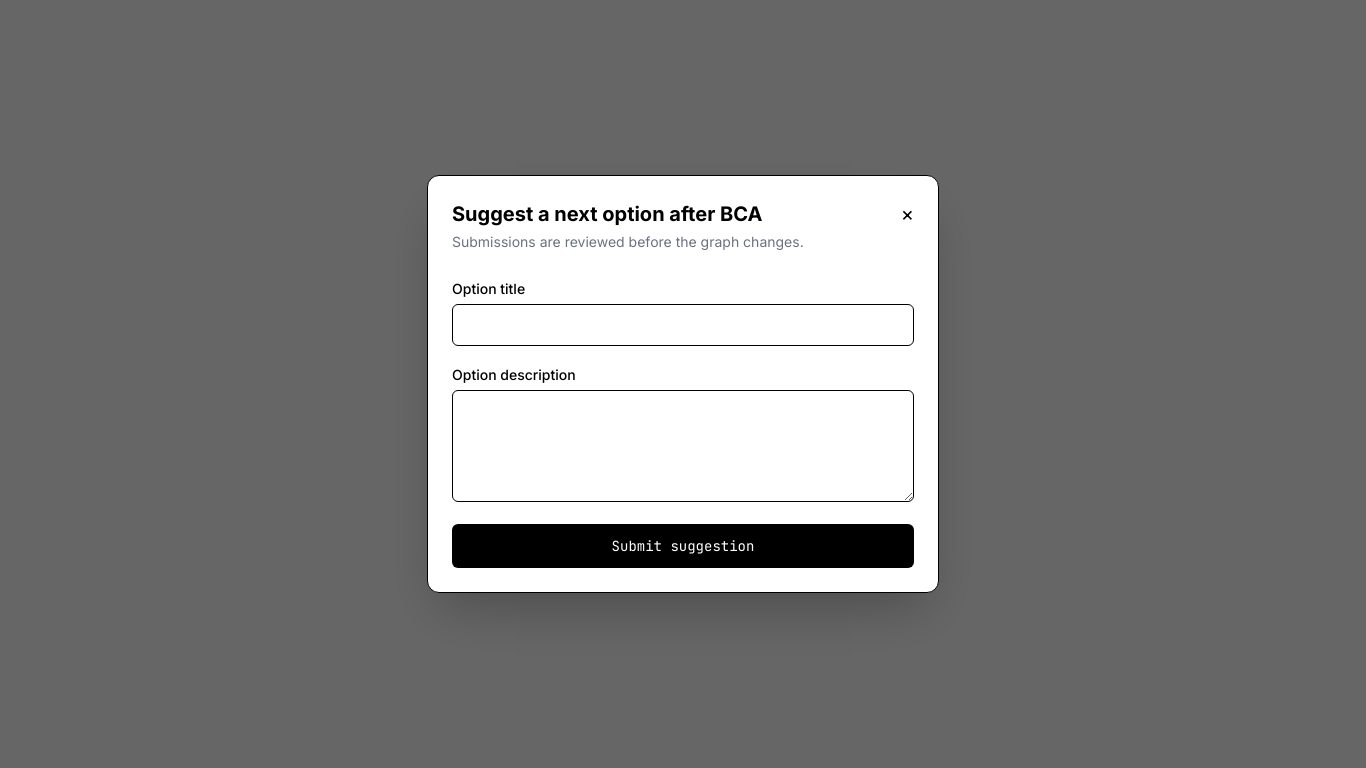
it: SuggestionDialog › retains typed content after a server failure
Type "Cloud Engineering Certification" into the field labelled "Option title" at {"x": 683, "y": 325}, box [452, 304, 914, 346]
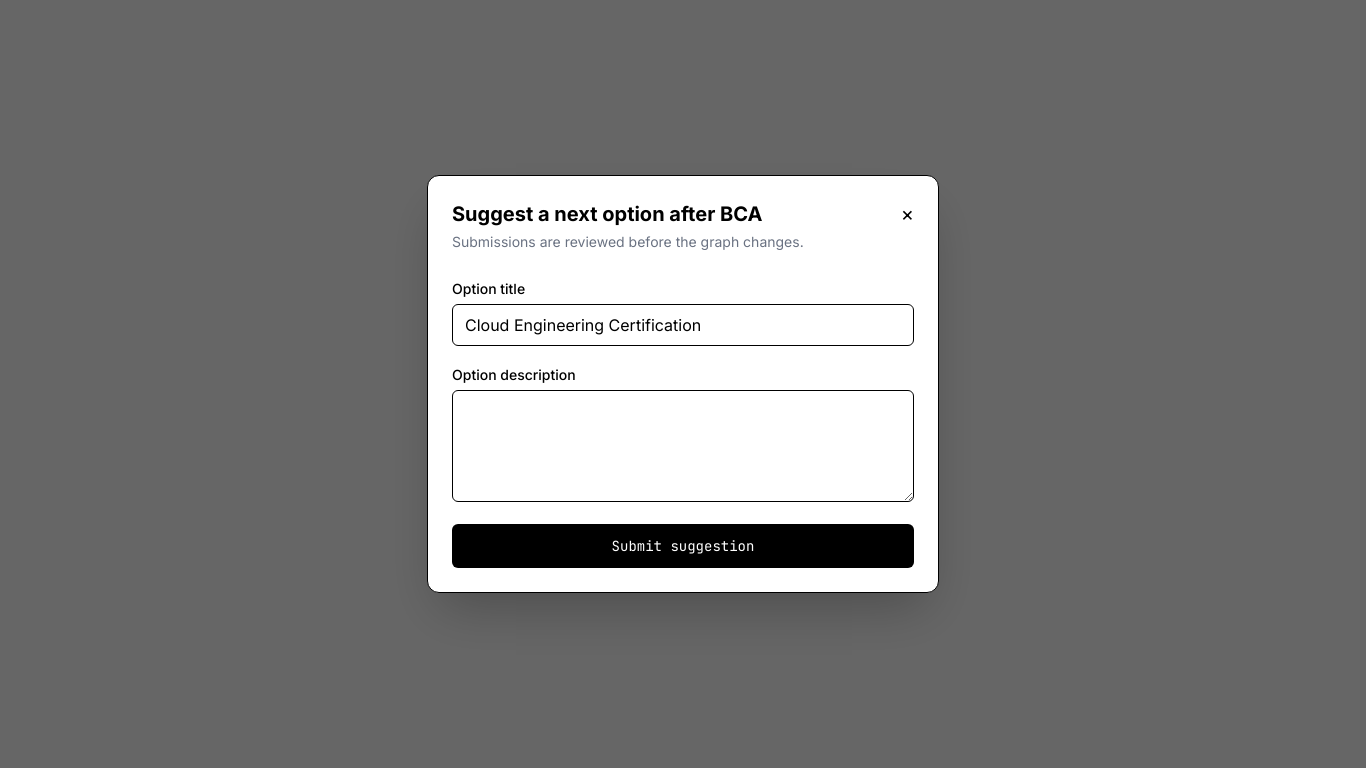
Type "A focused certification route for cloud infrastructure." into the text box labelled "Option description" at {"x": 683, "y": 446}, box [452, 390, 914, 502]
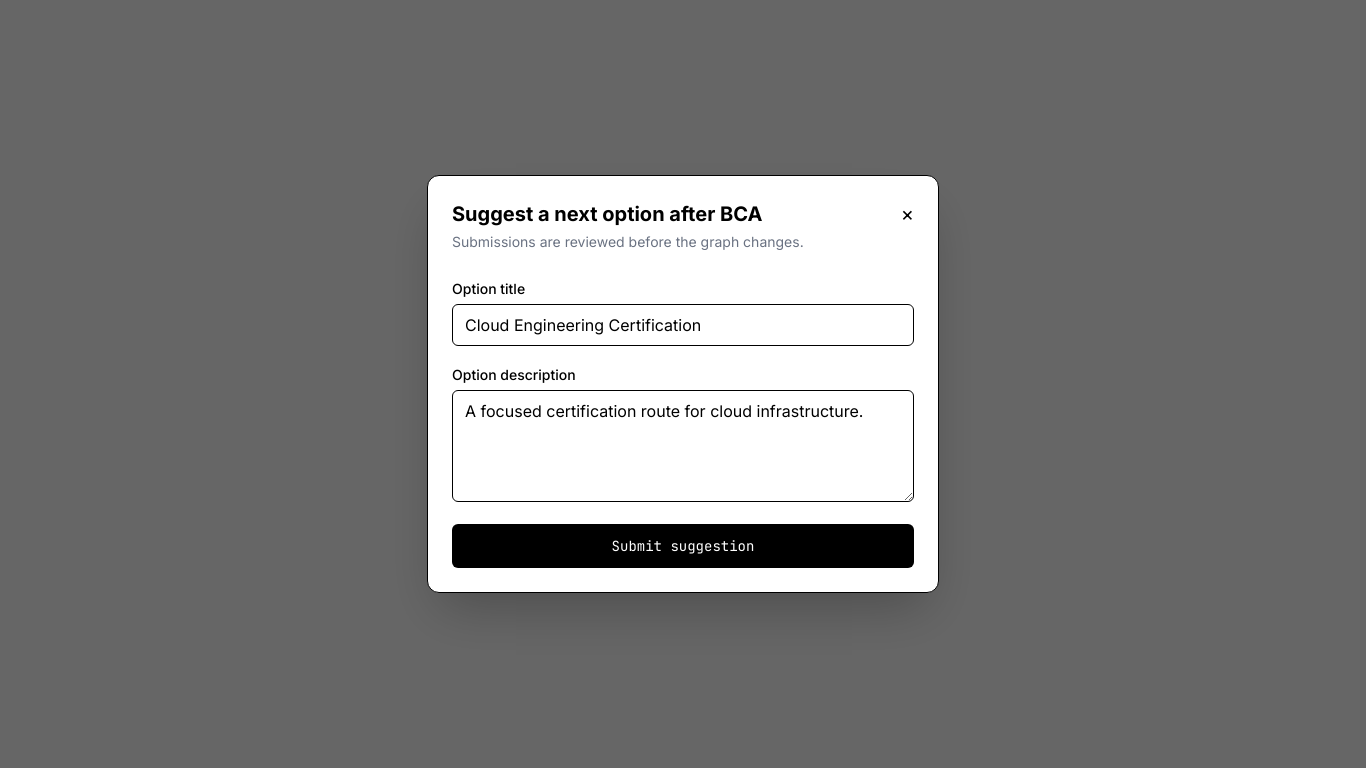
Click the button "Submit suggestion" at {"x": 683, "y": 546}, box [452, 524, 914, 568]
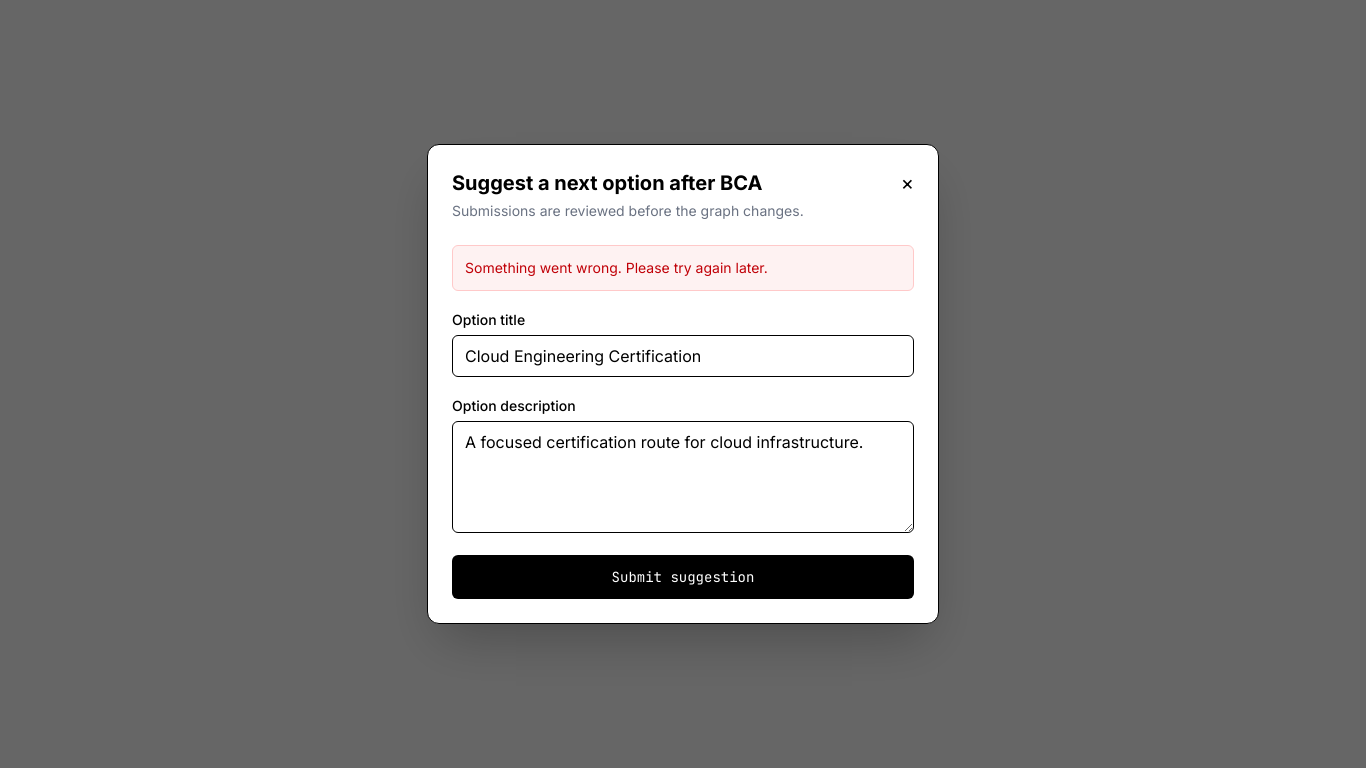
expect the message shows "Something went wrong": met, box [465, 259, 768, 276]
